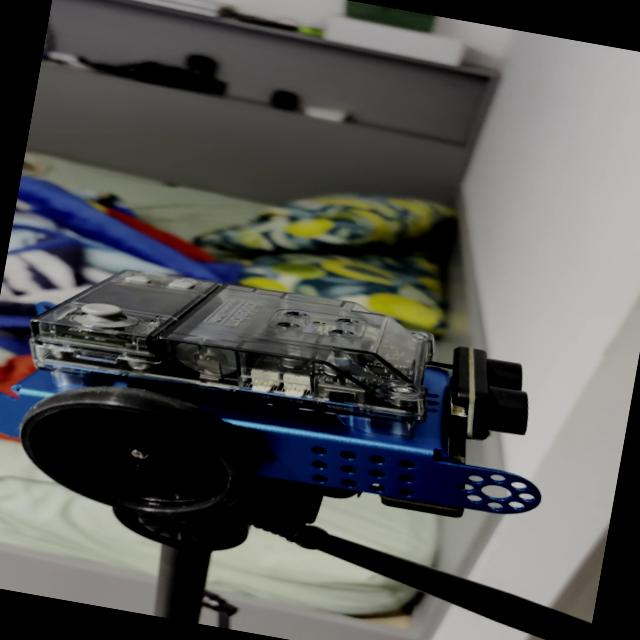mbot-detection: (0, 235, 589, 590)
